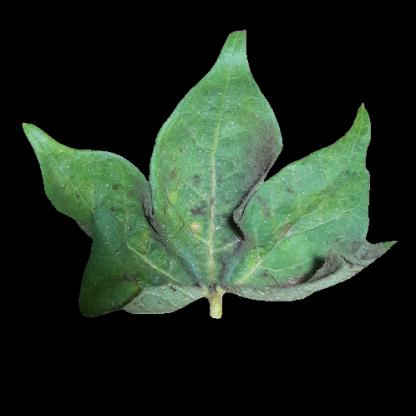curl_stage1: (156, 176, 187, 222)
curl_stage2: (137, 285, 192, 311)
healthy: (212, 73, 257, 111)
sooty: (111, 186, 166, 238), (218, 237, 253, 289), (234, 157, 273, 197), (249, 128, 281, 161)
